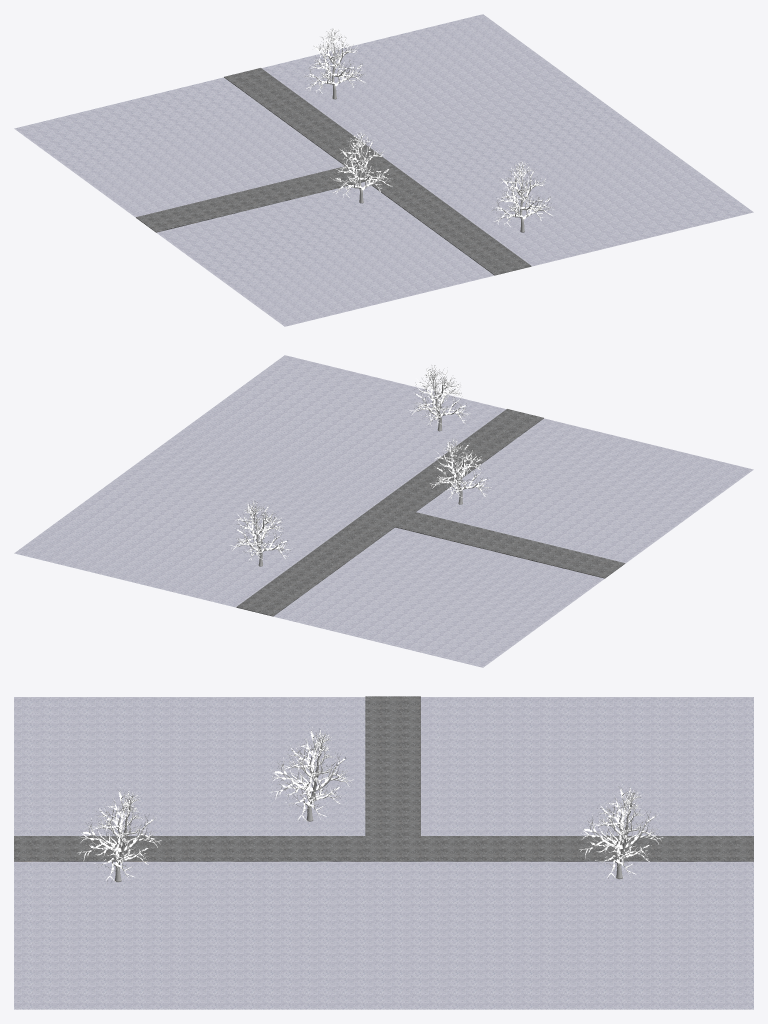
The model's file is Tree.gltf.
3 views of the same model, one above another, from view 1: azimuth 30°, elevation 25°; view 2: azimuth 150°, elevation 25°; view 3: azimuth 270°, elevation 25° (orthographic). The views are drawn at different scales.
Parts seen in each view (by area): view 1: Plane, Tree, Tree.002, Tree.001; view 2: Plane, Tree, Tree.002, Tree.001; view 3: Plane, Tree.002, Tree.001, Tree.
Part boxes in pixels (bbox=[...]): Plane: bbox=[14, 14, 753, 326]; Tree: bbox=[492, 161, 553, 232]; Tree.002: bbox=[304, 28, 365, 99]; Tree.001: bbox=[330, 132, 392, 203]; Plane: bbox=[14, 355, 753, 667]; Tree: bbox=[409, 365, 471, 431]; Tree.002: bbox=[230, 501, 292, 566]; Tree.001: bbox=[430, 439, 491, 504]; Plane: bbox=[14, 696, 753, 1009]; Tree.002: bbox=[579, 784, 663, 879]; Tree.001: bbox=[269, 727, 353, 822]; Tree: bbox=[78, 787, 161, 882].
Size of the model in its own units: 39.6 by 5.46 by 39.6.
